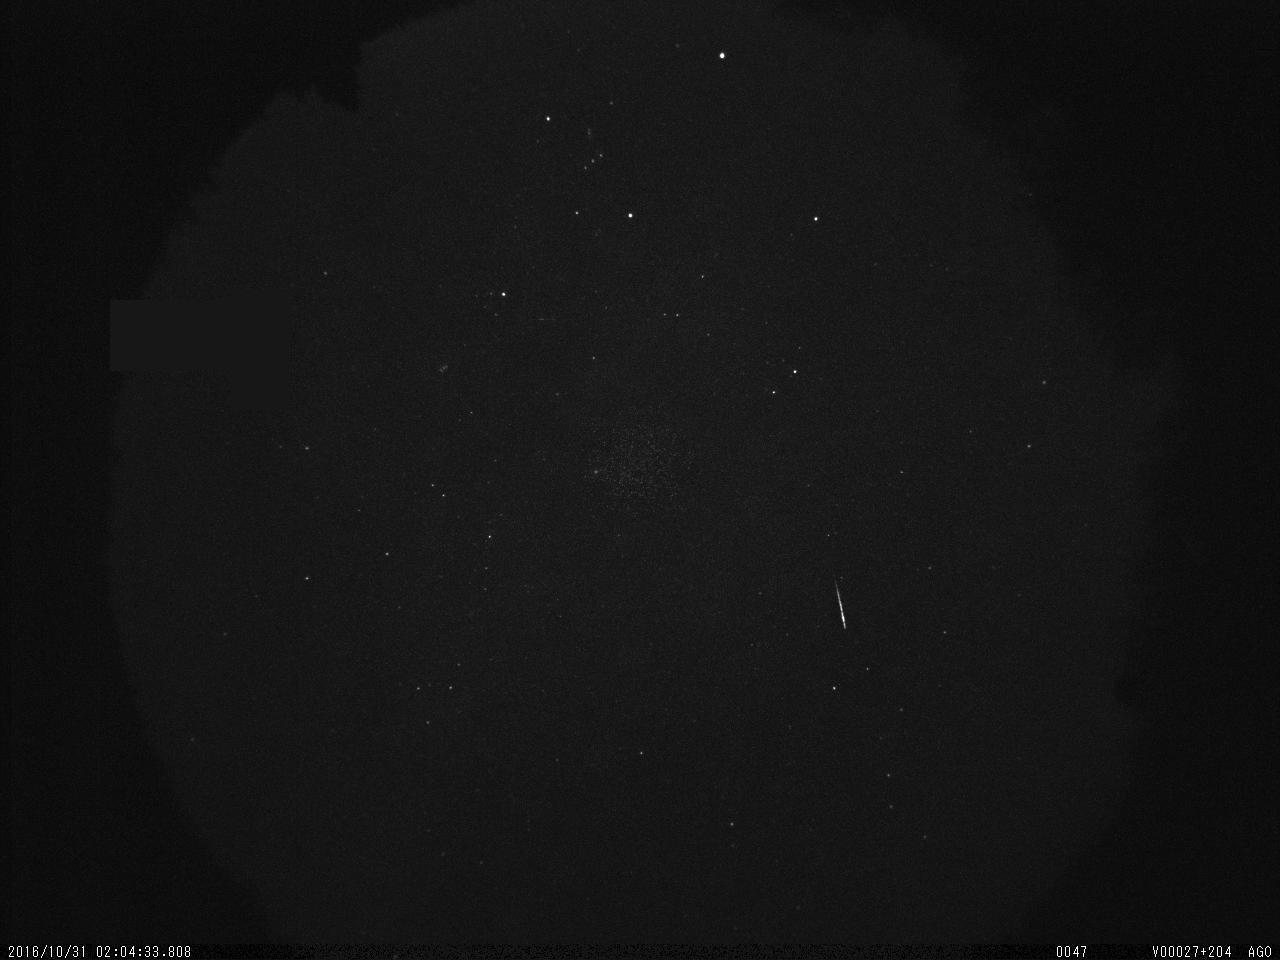meteor: (823, 571, 860, 638)
